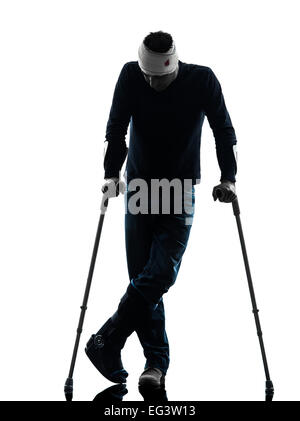crutches: (63, 31, 273, 394)
